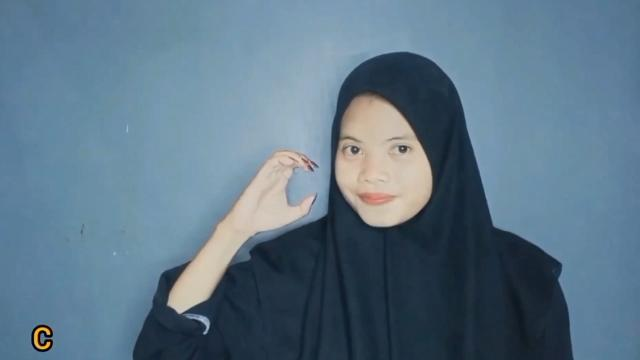C: (235, 148, 322, 228)
